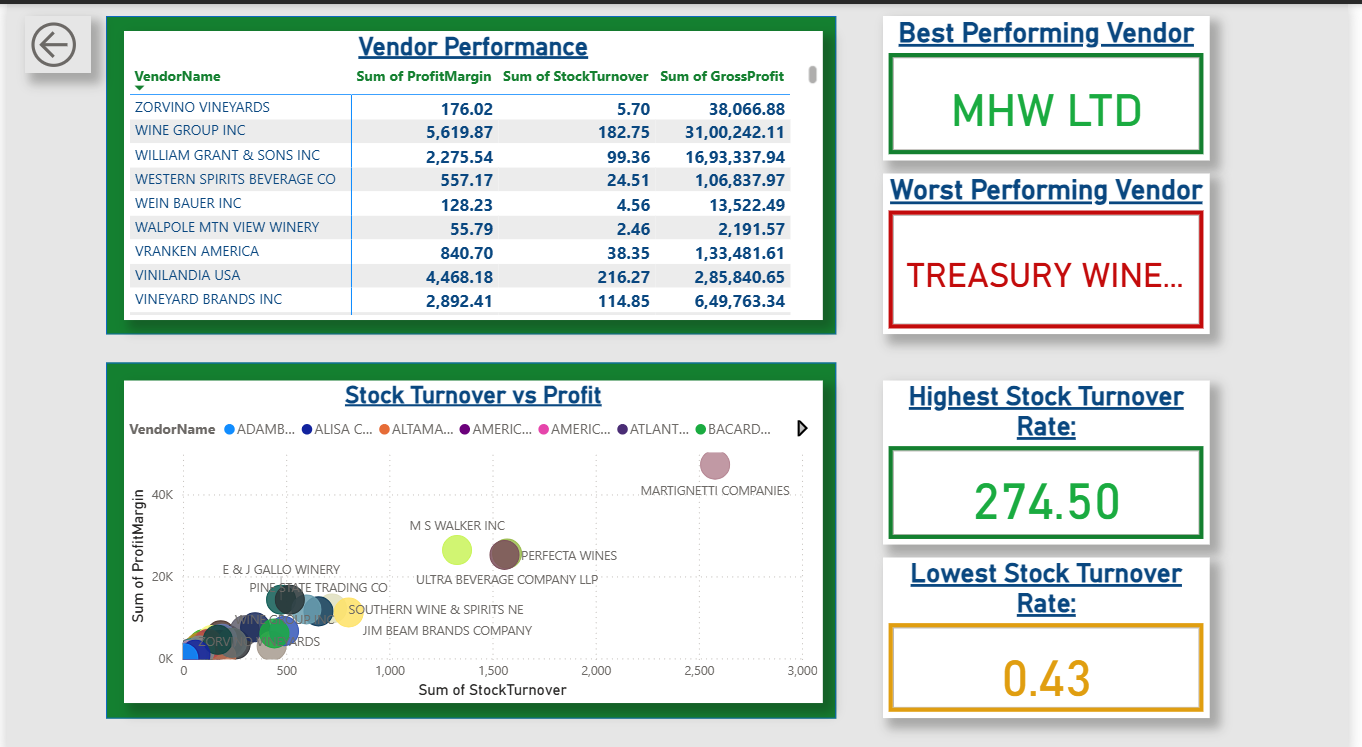

The page's visual inventory and layout, read from the dashboard file:
{"tool":"powerbi","page":{"name":"Page 2","canvas":[1280,720],"ordinal":1},"visuals":[{"type":"shape","box":[94.5,342,697.3,340.2],"z":0},{"type":"shape","box":[94.5,11.3,697.3,304.3],"z":1000},{"type":"pivotTable","title":"Vendor Performance ","fields":{"Rows":["vendor_sales_summary.VendorName"],"Values":["Sum(vendor_sales_summary.ProfitMargin)","Sum(vendor_sales_summary.StockTurnover)","Sum(vendor_sales_summary.GrossProfit)"]},"box":[111.5,26.5,667.1,275.9],"z":2000},{"type":"scatterChart","title":" Stock Turnover vs Profit ","fields":{"X":["Sum(vendor_sales_summary.StockTurnover)"],"Y":["Sum(vendor_sales_summary.ProfitMargin)"],"Series":["vendor_sales_summary.VendorName"],"Size":["Sum(BrandPerformance.TotalSales)"]},"box":[111.5,359.1,667.1,308],"z":3000},{"type":"actionButton","box":[17,11.3,62.4,54.8],"z":4000},{"type":"cardVisual","title":"Best Performing Vendor","fields":{"Data":["vendor_sales_summary.Best Performing Vendor"]},"box":[837.2,11.3,311.8,138],"z":4001},{"type":"cardVisual","title":"Worst Performing Vendor","fields":{"Data":["vendor_sales_summary.Worst Performing Vendor"]},"box":[837.2,162.5,311.8,153.1],"z":4002},{"type":"cardVisual","title":"Highest Stock Turnover Rate:","fields":{"Data":["vendor_sales_summary.Highest Turnover Rate"]},"box":[837.2,359.1,311.8,156.9],"z":4003},{"type":"cardVisual","title":"Lowest Stock Turnover Rate:","fields":{"Data":["vendor_sales_summary.Lowest Turnover Rate"]},"box":[837.2,529.1,311.8,153.1],"z":4004}]}

Visuals, with their boxes in screenshot pixels (x1, y1, x2, y2), scaled from the page's 1280x720 canvas onto the 1362x747 screenshot:
shape: bbox=(101, 355, 843, 708)
shape: bbox=(101, 12, 843, 327)
"Vendor Performance " pivotTable: bbox=(119, 27, 828, 314)
" Stock Turnover vs Profit " scatterChart: bbox=(119, 373, 828, 692)
actionButton: bbox=(18, 12, 84, 69)
"Best Performing Vendor" cardVisual: bbox=(891, 12, 1223, 155)
"Worst Performing Vendor" cardVisual: bbox=(891, 169, 1223, 327)
"Highest Stock Turnover Rate:" cardVisual: bbox=(891, 373, 1223, 535)
"Lowest Stock Turnover Rate:" cardVisual: bbox=(891, 549, 1223, 708)
